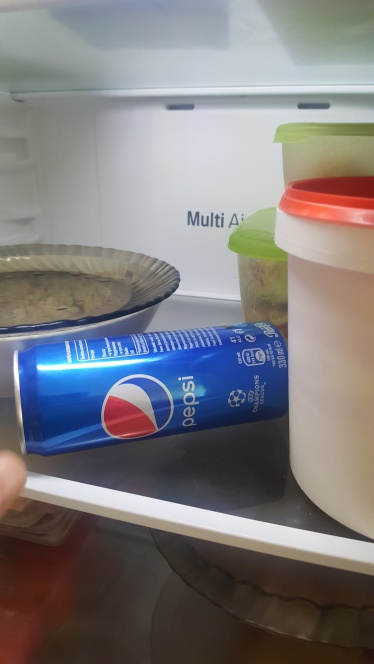pepsi: (3, 317, 295, 456)
